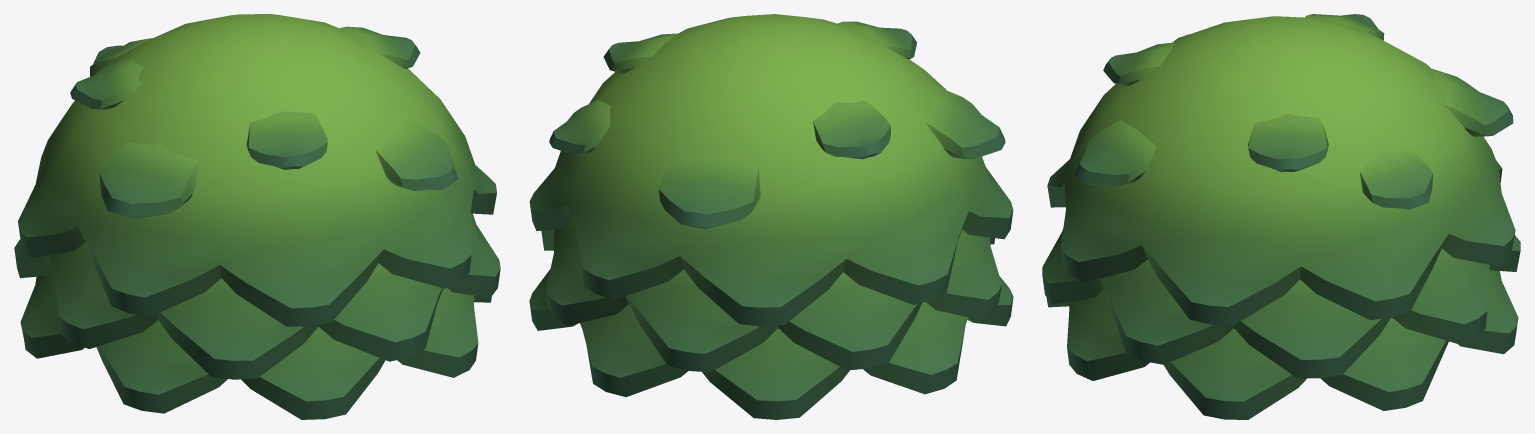
Rendered from Bush-2.fbx.
3 renders of one model, left to right at view 1: azimuth 30°, elevation 25°; view 2: azimuth 150°, elevation 25°; view 3: azimuth 270°, elevation 25°, orthographic.
Parts seen in each view (by area): view 1: Bush-2; view 2: Bush-2; view 3: Bush-2.
Part boxes in pixels (x1,y1,x2,y2): Bush-2: [14, 14, 500, 419]; Bush-2: [529, 14, 1013, 419]; Bush-2: [1042, 14, 1520, 419].
Bounding box in the file's own units: 380 × 248 × 380.
